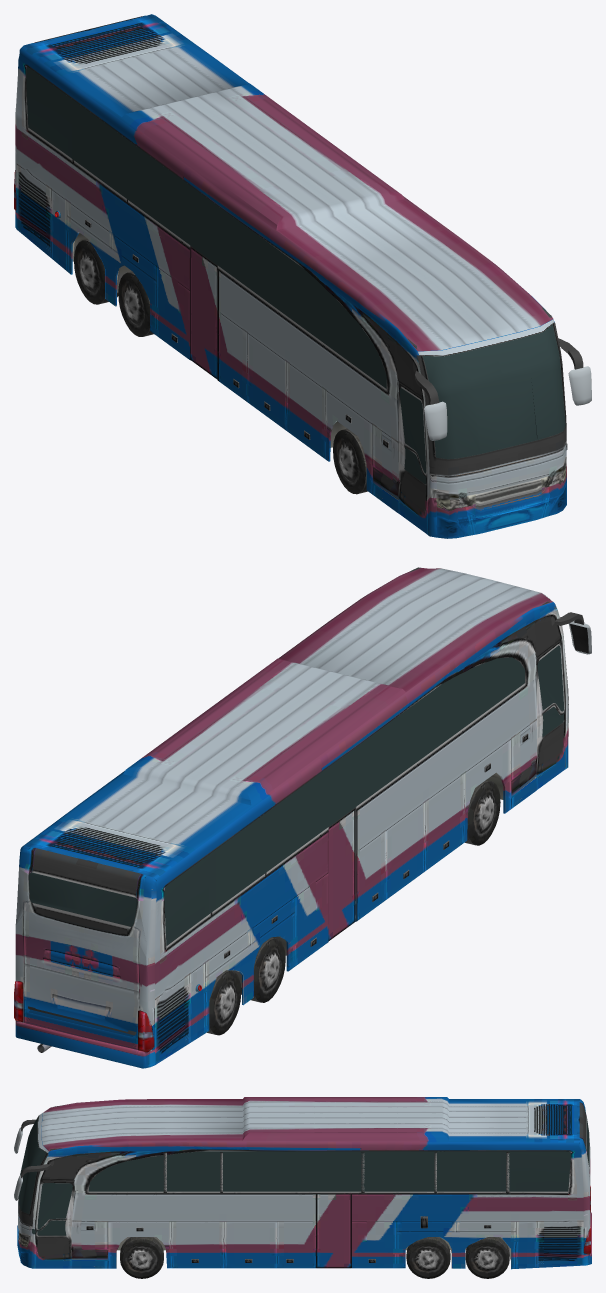
The picture shows the model from 3 angles, top to bottom: view 1: azimuth 30°, elevation 25°; view 2: azimuth 150°, elevation 25°; view 3: azimuth 270°, elevation 25°; orthographic projection. The views are drawn at different scales.
Visible parts, largest first — view 1: bus body, inside and glass, door, door2, wheel3, wheel2, wheel, headlight glass; view 2: bus body, inside and glass, door, door2, wheel3, wheel2, wheel; view 3: bus body, inside and glass, Object003, Object002, Object001.
Part boxes in pixels (left/top/right/bottom): bus body: left=15, top=14, right=591, bottom=538; inside and glass: left=14, top=16, right=583, bottom=509; door: left=397, top=381, right=427, bottom=533; door2: left=190, top=246, right=217, bottom=379; wheel3: left=333, top=428, right=367, bottom=494; wheel2: left=118, top=271, right=153, bottom=336; wheel: left=74, top=239, right=118, bottom=304; headlight glass: left=433, top=457, right=566, bottom=510; bus body: left=15, top=568, right=591, bottom=1068; inside and glass: left=14, top=567, right=584, bottom=1052; door: left=535, top=638, right=565, bottom=789; door2: left=328, top=807, right=355, bottom=940; wheel3: left=465, top=780, right=500, bottom=845; wheel2: left=241, top=937, right=285, bottom=1002; wheel: left=207, top=970, right=241, bottom=1035; bus body: left=14, top=1097, right=591, bottom=1268; inside and glass: left=18, top=1102, right=590, bottom=1269; Object003: left=120, top=1237, right=163, bottom=1278; Object002: left=406, top=1237, right=450, bottom=1278; Object001: left=465, top=1237, right=509, bottom=1278.
Size of the model in its own units: 22.47 by 27.44 by 101.
